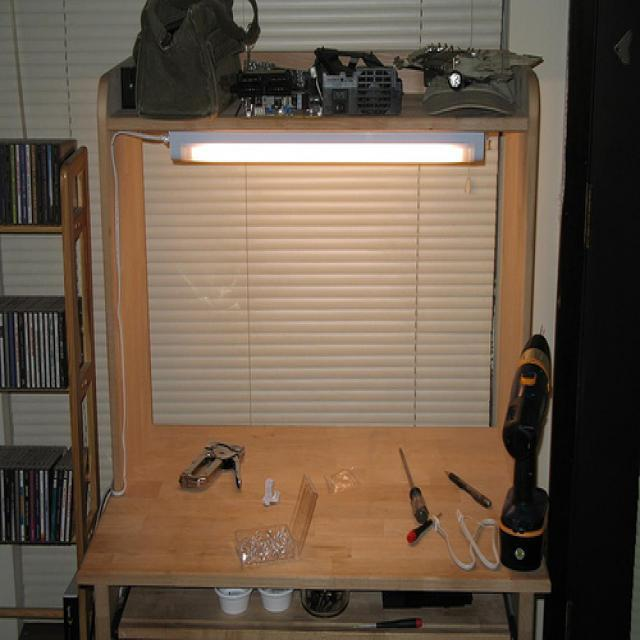drill: (493, 314, 562, 580)
screwdriver: (392, 432, 429, 530)
